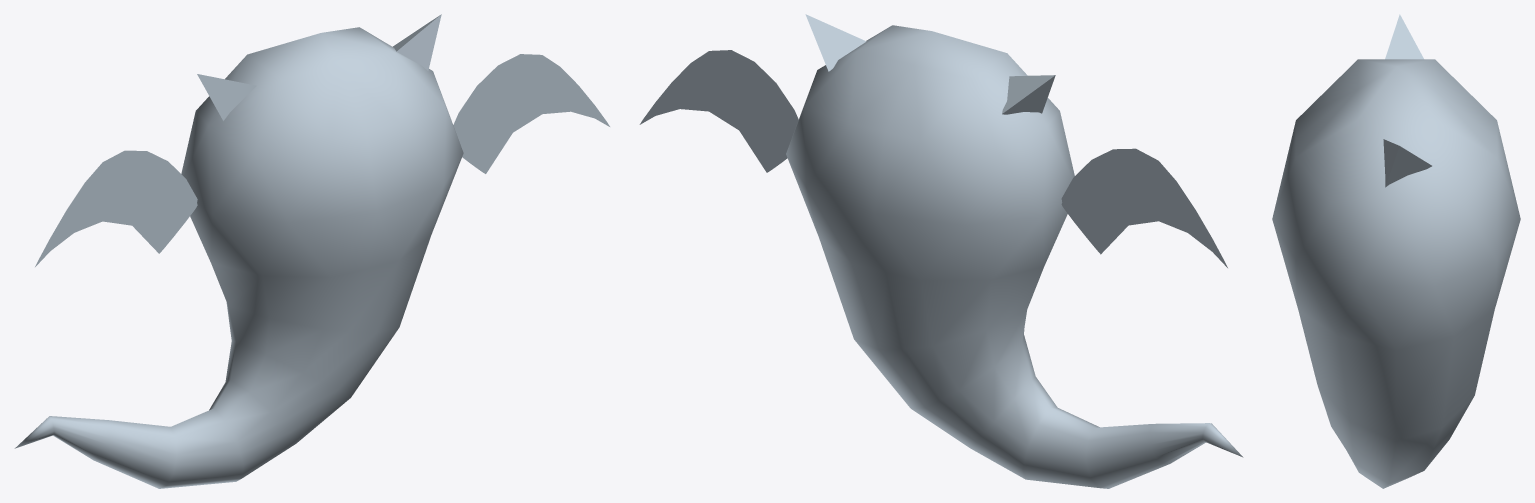
The model's file is ghost_wing.glb.
The picture shows the model from 3 angles, left to right: view 1: azimuth 30°, elevation 25°; view 2: azimuth 150°, elevation 25°; view 3: azimuth 270°, elevation 25°; orthographic projection. The views are drawn at different scales.
Visible parts, largest first — view 1: ghost_wing; view 2: ghost_wing; view 3: ghost_wing.
Part boxes in pixels (<box>): ghost_wing: <box>14,14,609,488</box>; ghost_wing: <box>639,14,1243,488</box>; ghost_wing: <box>1272,14,1520,488</box>.
Size of the model in its own units: 1 by 0.6779 by 0.3284.
Materials: 1 (1 with a texture image).
